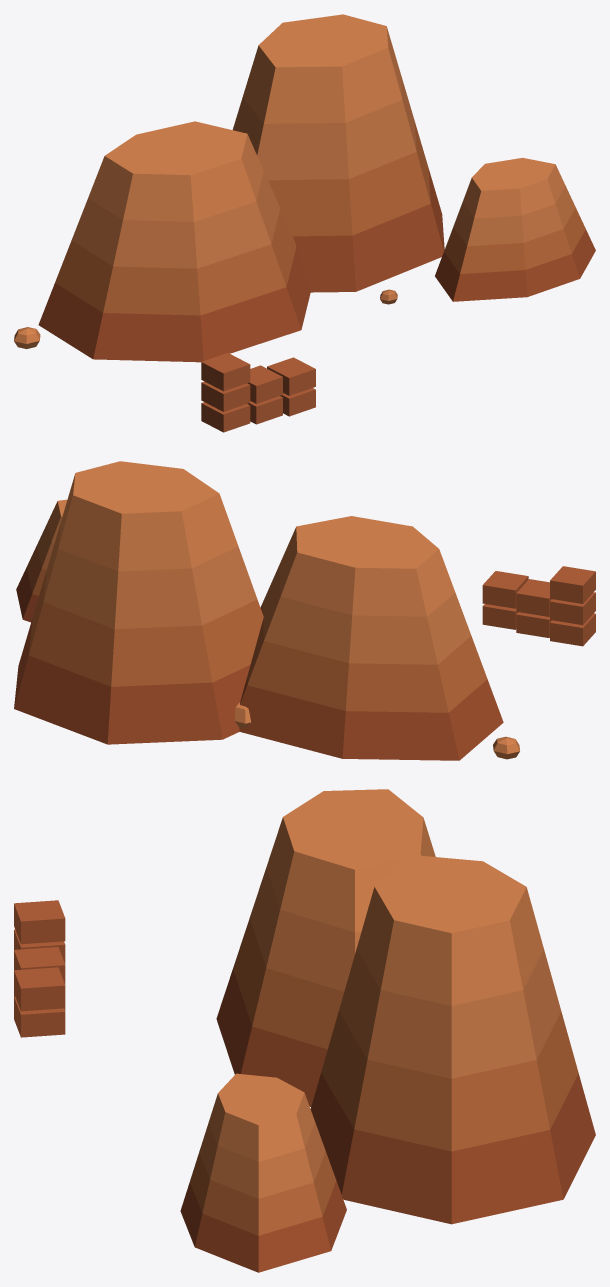
Rendered from terrain-hill-0.glb.
3 renders of one model, top to bottom at view 1: azimuth 30°, elevation 25°; view 2: azimuth 150°, elevation 25°; view 3: azimuth 270°, elevation 25°, orthographic. The views are drawn at different scales.
Parts seen in each view (by area): view 1: terrain-hill-0.003, terrain-hill-0, terrain-hill-0.001, terrain-hill-0.002, terrain-hill-0.004; view 2: terrain-hill-0.003, terrain-hill-0, terrain-hill-0.001, terrain-hill-0.002, terrain-hill-0.004, terrain-hill-0.005; view 3: terrain-hill-0.003, terrain-hill-0, terrain-hill-0.001, terrain-hill-0.002, terrain-hill-0.004.
Part boxes in pixels (x1,y1,x2,y2): terrain-hill-0.003: (88,14,565,221); terrain-hill-0: (38,168,595,362); terrain-hill-0.001: (55,121,585,315); terrain-hill-0.002: (71,74,575,268); terrain-hill-0.004: (201,353,315,432); terrain-hill-0.003: (47,461,454,616); terrain-hill-0: (14,567,503,760); terrain-hill-0.001: (26,545,487,712); terrain-hill-0.002: (37,522,471,664); terrain-hill-0.004: (482,566,595,646); terrain-hill-0.005: (234,702,519,759); terrain-hill-0.003: (208,789,543,1161); terrain-hill-0: (180,969,595,1272); terrain-hill-0.001: (190,918,578,1235); terrain-hill-0.002: (199,868,561,1198); terrain-hill-0.004: (14,900,65,1037).
Bounding box in the file's own units: 1.23 × 0.4506 × 0.9044.
